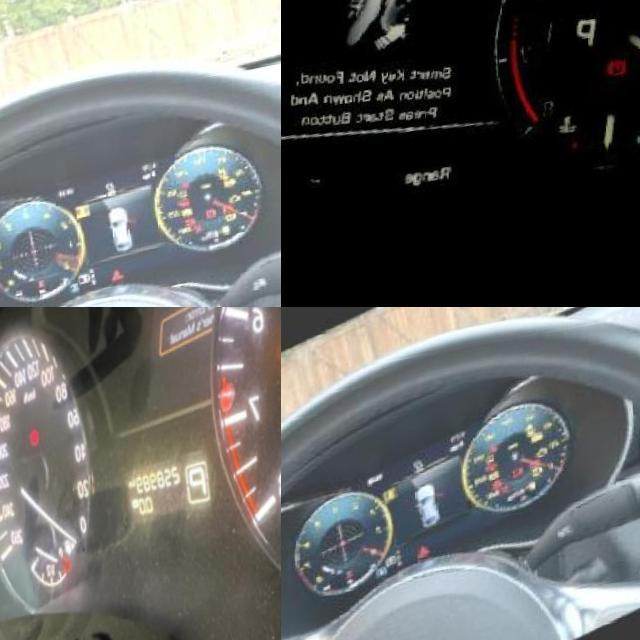Engine cooling system: (548, 125, 578, 160), (347, 568, 358, 580), (31, 289, 40, 301)
Low fuel level: (530, 489, 541, 502), (218, 243, 226, 253)
